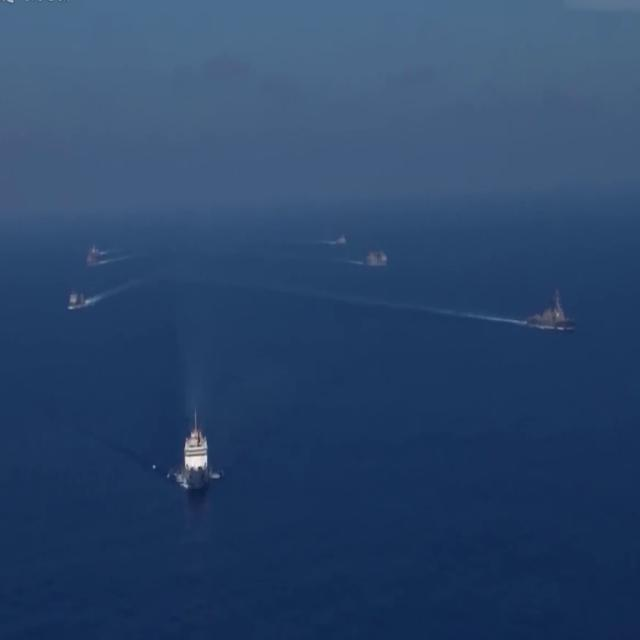navalvessels: (185, 405, 211, 485), (530, 292, 572, 332), (83, 238, 102, 269), (67, 288, 89, 310), (366, 247, 386, 270), (333, 228, 345, 250)
